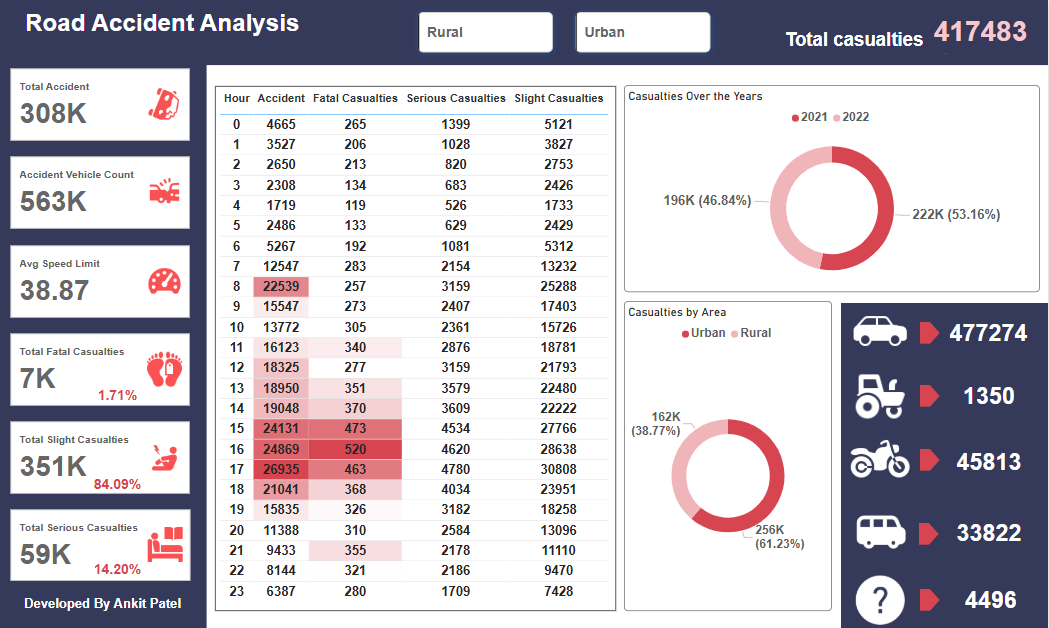

What the dashboard file says about the page in this screenshot:
{"tool":"powerbi","page":{"name":"Page 2","canvas":[1500,900],"ordinal":1},"visuals":[{"type":"shape","box":[1204.3,432.9,295.7,467.1],"z":0},{"type":"shape","box":[0,0,1500,93.3],"z":1000},{"type":"shape","box":[0,0,298.3,900],"z":2000},{"type":"actionButton","title":"Road Accident Analysis","box":[38.6,12.9,408.6,40],"z":3000},{"type":"cardVisual","fields":{"Data":["Measure Table.Total Accident"]},"box":[13.3,93.3,266.7,113.3],"z":4000},{"type":"cardVisual","fields":{"Data":["Measure Table.Total Fatal Casualties"]},"box":[13.3,471,266.7,113.3],"z":5000},{"type":"cardVisual","fields":{"Data":["Measure Table.Total Serious Casualties"]},"box":[12.9,722.9,267.1,112.9],"z":6000},{"type":"cardVisual","fields":{"Data":["Measure Table.Total Slight Casualties"]},"box":[13.3,597,266.7,113.3],"z":7000},{"type":"cardVisual","fields":{"Data":["Measure Table.Accident Vehicle Count"]},"box":[13.3,219.2,266.7,113.3],"z":8000},{"type":"cardVisual","fields":{"Data":["Measure Table.Avg Speed Limit"]},"box":[13.3,345.1,266.7,113.3],"z":9000},{"type":"card","fields":{"Values":["Measure Table.Slight %"]},"box":[117.1,678.6,107.1,27.1],"z":10000},{"type":"card","fields":{"Values":["Measure Table.Serious %"]},"box":[117.1,800,107.1,27.1],"z":11000},{"type":"card","fields":{"Values":["Measure Table.Deaths %"]},"box":[117.1,550,107.1,31.4],"z":12000},{"type":"card","fields":{"Values":["Measure Table.Total casualties"]},"box":[1317.1,24.3,172.9,57.1],"z":13000},{"type":"actionButton","title":"Total casualties","box":[1115.7,41.4,214.3,40],"z":14000},{"type":"actionButton","title":"Developed By Ankit Patel","box":[0,851.4,298.6,28.6],"z":15000},{"type":"advancedSlicerVisual","fields":{"Values":["Road Accident Dataa.Urban_or_Rural_Area"]},"box":[582.9,0,452.9,92.9],"z":17000},{"type":"image","box":[1204.3,814.3,112.9,85.7],"z":18001},{"type":"image","box":[1204.3,430,112.9,85.7],"z":18002},{"type":"image","box":[1204.3,522.9,112.9,80],"z":18003},{"type":"image","box":[1204.3,711.4,112.9,95.7],"z":18004},{"type":"image","box":[1204.3,610,112.9,94.3],"z":18005},{"type":"card","fields":{"Values":["Measure Table.Car"]},"box":[1330,437.1,170,75.7],"z":18006},{"type":"shape","box":[1317.1,460,28.6,31.4],"z":18007},{"type":"shape","box":[1317.1,550,28.6,31.4],"z":18008},{"type":"shape","box":[1317.1,641.4,28.6,31.4],"z":18009},{"type":"shape","box":[1315.7,747.1,28.6,31.4],"z":18010},{"type":"shape","box":[1317.1,841.4,28.6,31.4],"z":18011},{"type":"card","fields":{"Values":["Measure Table.Bus"]},"box":[1331.4,731.4,168.6,57.1],"z":18012},{"type":"card","fields":{"Values":["Measure Table.Other"]},"box":[1337.1,821.4,162.9,70],"z":18013},{"type":"card","fields":{"Values":["Measure Table.Motorcycle"]},"box":[1331.4,625.7,168.6,67.1],"z":18014},{"type":"card","fields":{"Values":["Measure Table.Agricultural"]},"box":[1331.4,527.1,168.6,75.7],"z":18015},{"type":"tableEx","fields":{"Values":["Road Accident Dataa.Hour","Measure Table.Total Accident","Measure Table.Total Fatal Casualties","Measure Table.Total Serious Casualties","Measure Table.Total Slight Casualties"]},"box":[310,122.9,572.9,750],"z":18016},{"type":"donutChart","title":"Casualties by Area","fields":{"Category":["Road Accident Dataa.Urban_or_Rural_Area"],"Y":["Measure Table.Total casualties"]},"box":[894.3,430,297.1,442.9],"z":18017},{"type":"donutChart","title":"Casualties Over the Years","fields":{"Y":["Measure Table.Total casualties"],"Category":["Date Table.Year"]},"box":[894.3,121.4,594.3,295.7],"z":18018}]}

Visuals, with their boxes in screenshot pixels (x1, y1, x2, y2), scaled from the page's 1500x900 canvas onto the 1049x628 screenshot:
shape: detection(842, 302, 1048, 627)
shape: detection(0, 0, 1048, 65)
shape: detection(0, 0, 209, 627)
"Road Accident Analysis" actionButton: detection(27, 9, 313, 37)
cardVisual - Measure Table.Total Accident: detection(9, 65, 196, 144)
cardVisual - Measure Table.Total Fatal Casualties: detection(9, 329, 196, 408)
cardVisual - Measure Table.Total Serious Casualties: detection(9, 504, 196, 583)
cardVisual - Measure Table.Total Slight Casualties: detection(9, 417, 196, 496)
cardVisual - Measure Table.Accident Vehicle Count: detection(9, 153, 196, 232)
cardVisual - Measure Table.Avg Speed Limit: detection(9, 241, 196, 320)
card - Measure Table.Slight %: detection(82, 474, 157, 492)
card - Measure Table.Serious %: detection(82, 558, 157, 577)
card - Measure Table.Deaths %: detection(82, 384, 157, 406)
card - Measure Table.Total casualties: detection(921, 17, 1042, 57)
"Total casualties" actionButton: detection(780, 29, 930, 57)
"Developed By Ankit Patel" actionButton: detection(0, 594, 209, 614)
advancedSlicerVisual - Road Accident Dataa.Urban_or_Rural_Area: detection(408, 0, 724, 65)
image: detection(842, 568, 921, 627)
image: detection(842, 300, 921, 360)
image: detection(842, 365, 921, 421)
image: detection(842, 496, 921, 563)
image: detection(842, 426, 921, 491)
card - Measure Table.Car: detection(930, 305, 1048, 358)
shape: detection(921, 321, 941, 343)
shape: detection(921, 384, 941, 406)
shape: detection(921, 448, 941, 469)
shape: detection(920, 521, 940, 543)
shape: detection(921, 587, 941, 609)
card - Measure Table.Bus: detection(931, 510, 1048, 550)
card - Measure Table.Other: detection(935, 573, 1048, 622)
card - Measure Table.Motorcycle: detection(931, 437, 1048, 483)
card - Measure Table.Agricultural: detection(931, 368, 1048, 421)
tableEx - Road Accident Dataa.Hour x Measure Table.Total Accident: detection(217, 86, 617, 609)
"Casualties by Area" donutChart: detection(625, 300, 833, 609)
"Casualties Over the Years" donutChart: detection(625, 85, 1041, 291)
